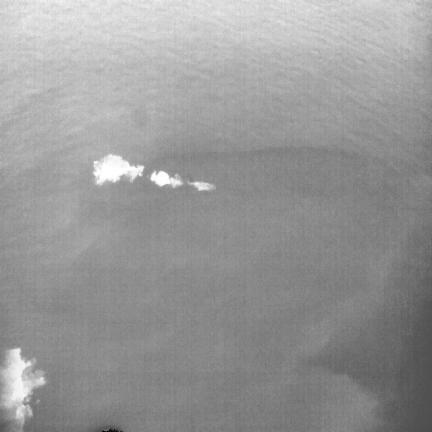flukeprints: (93, 154, 144, 185), (150, 171, 182, 186), (188, 181, 215, 191)
